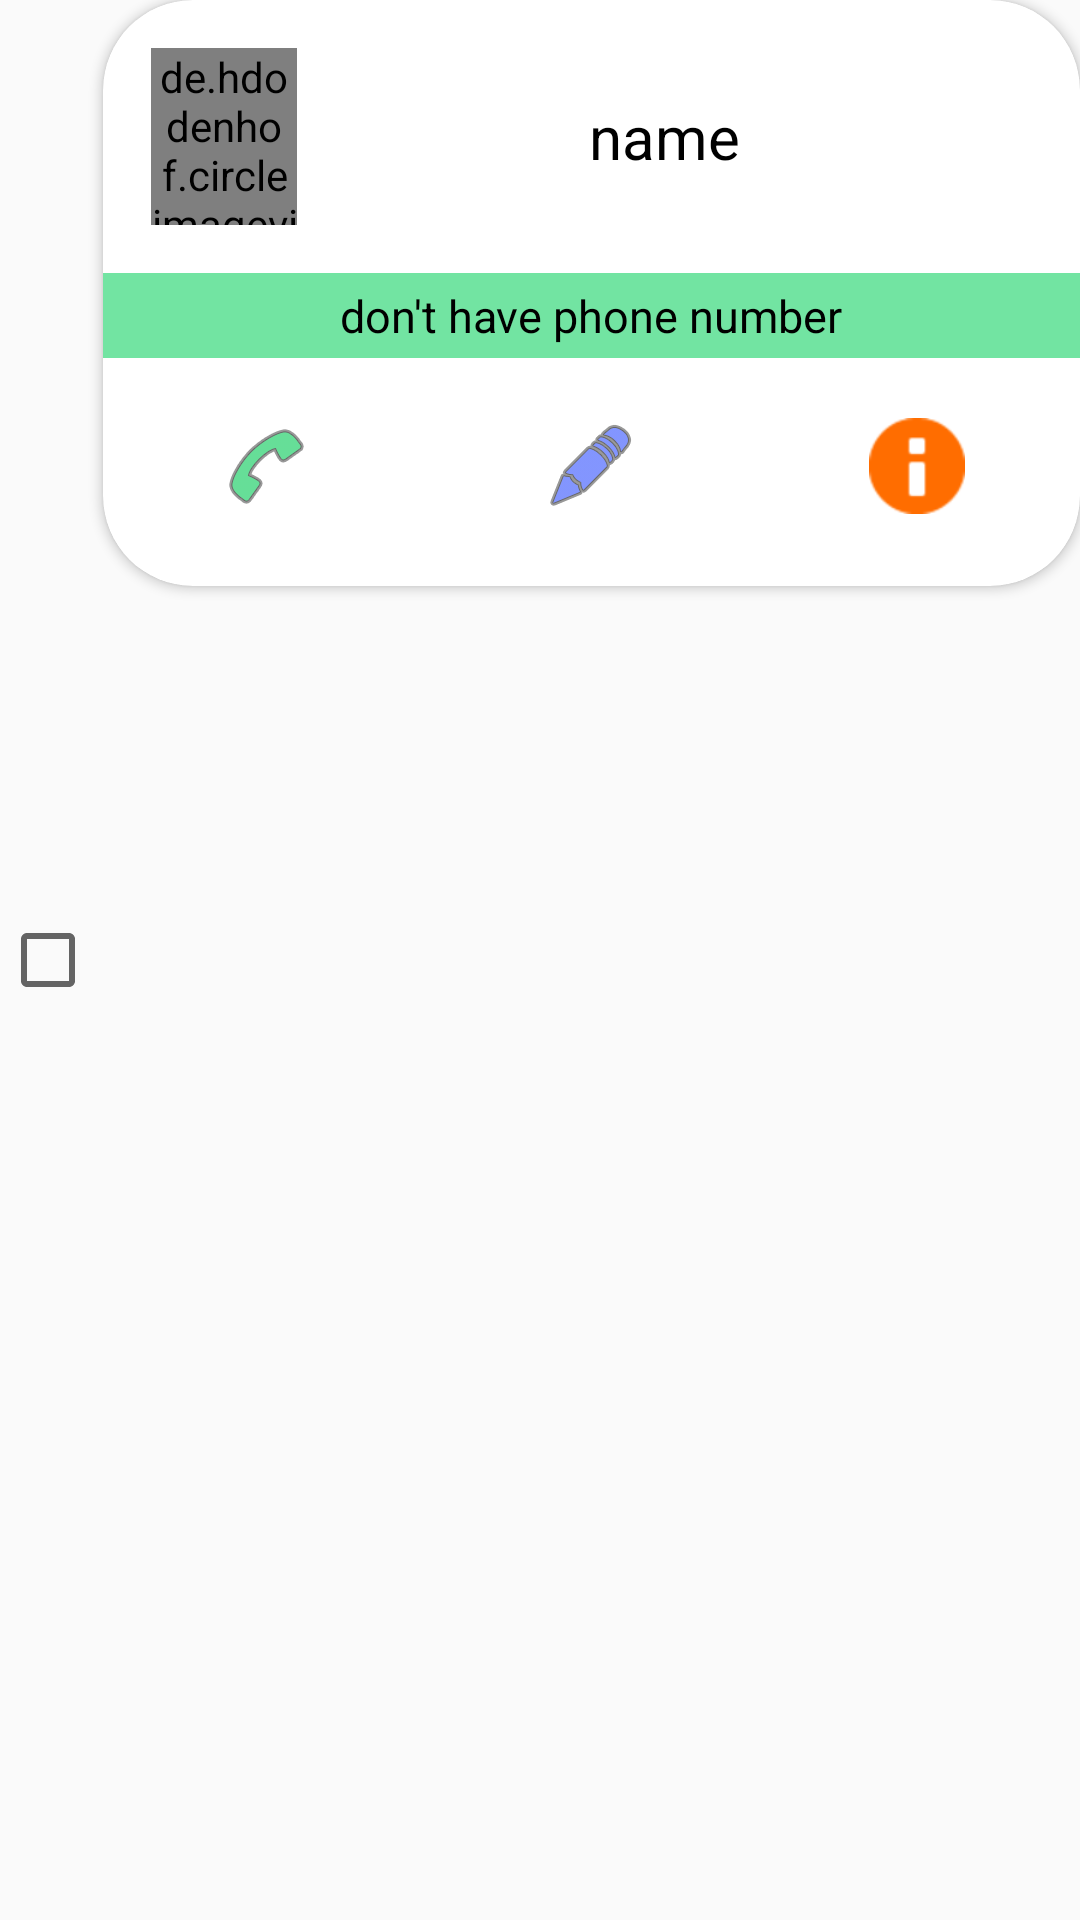

Where icons sit on this 1080×1920 app screen, as (x1, y1, x2, y2):
call: (229, 429, 304, 504)
edit: (550, 425, 631, 506)
info: (869, 418, 965, 514)
